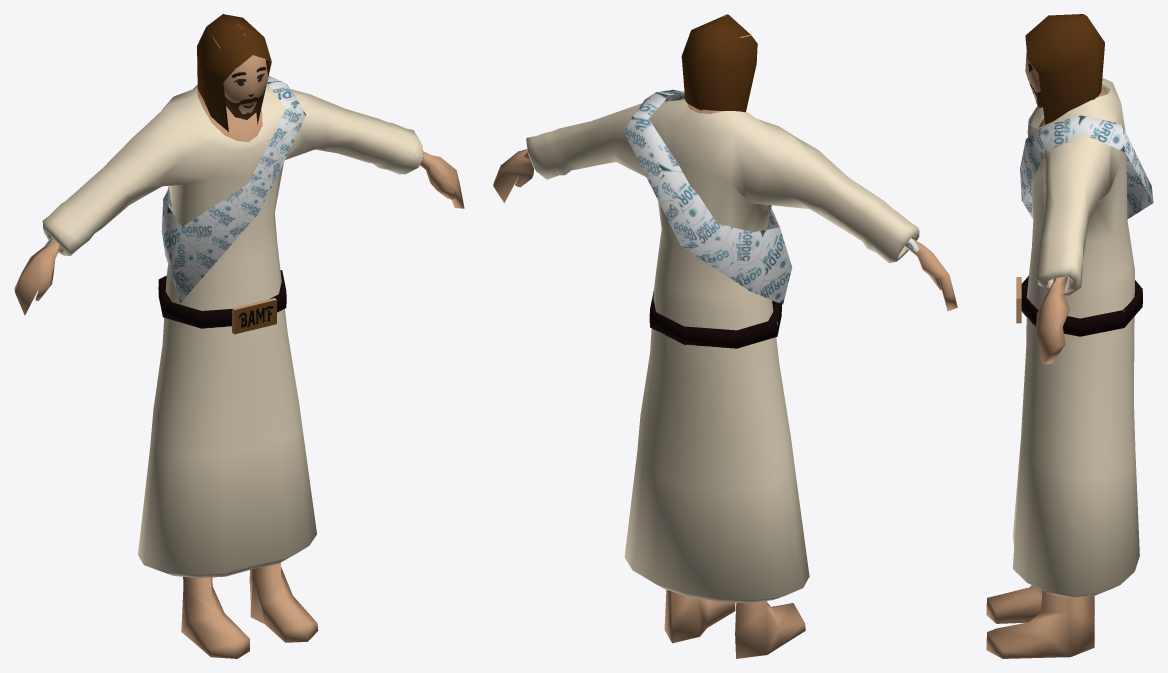
Rendered from snusjesus.glb.
3 views of the same model, side by side, from view 1: azimuth 30°, elevation 25°; view 2: azimuth 150°, elevation 25°; view 3: azimuth 270°, elevation 25° (orthographic). The views are drawn at different scales.
Visible parts, largest first — view 1: torso.002; view 2: torso.002; view 3: torso.002.
Part boxes in pixels (x1,y1,x2,y2): torso.002: (14,14,464,658); torso.002: (493,14,957,658); torso.002: (986,14,1153,658).
Bounding box in the file's own units: 1.58 × 2.04 × 0.5.
Materials: 1 (1 with a texture image).
